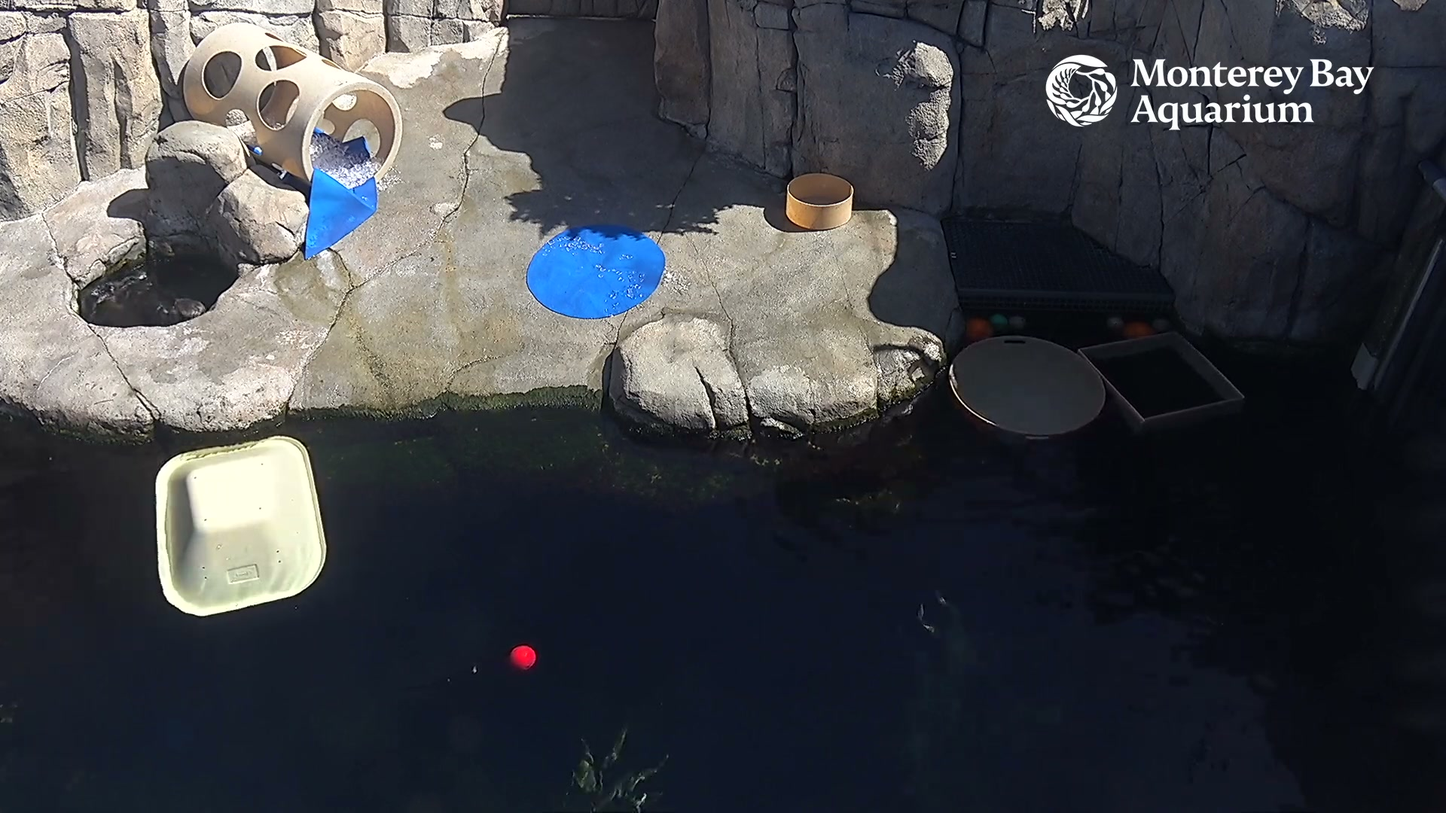Southern Sea Otter: (69, 252, 215, 332)
